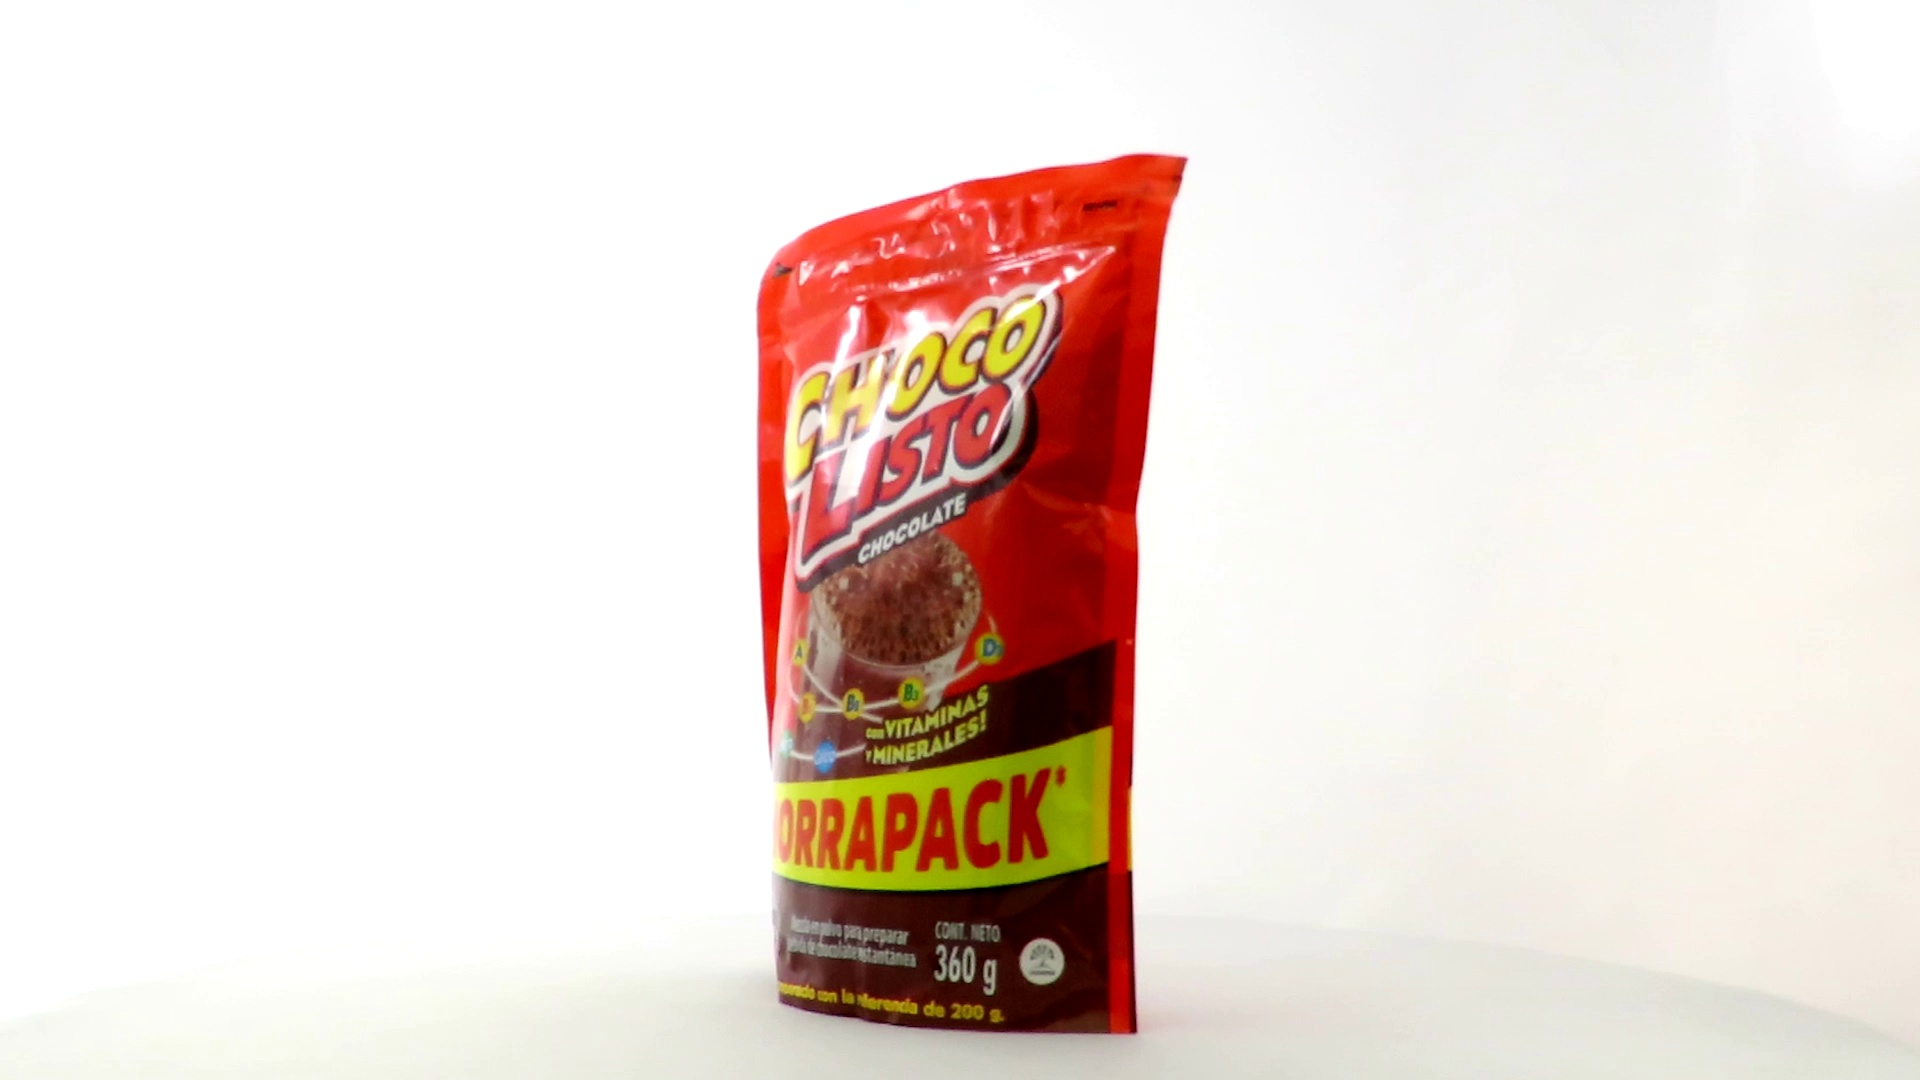COL0170103DYP36000: (752, 149, 1195, 1040)
